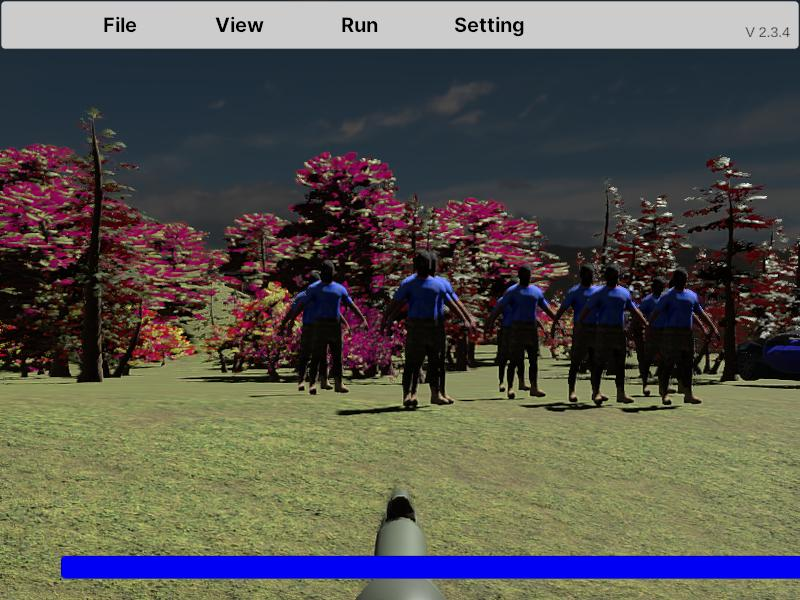Human: (383, 252, 471, 410), (283, 262, 369, 395), (575, 264, 651, 404), (486, 265, 563, 399), (640, 268, 714, 405)
car: (734, 322, 800, 384)
